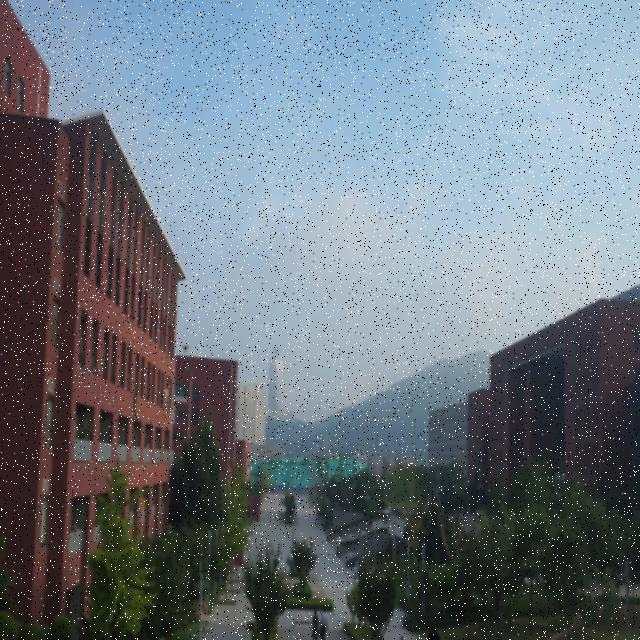UAV: (182, 344, 190, 353)
